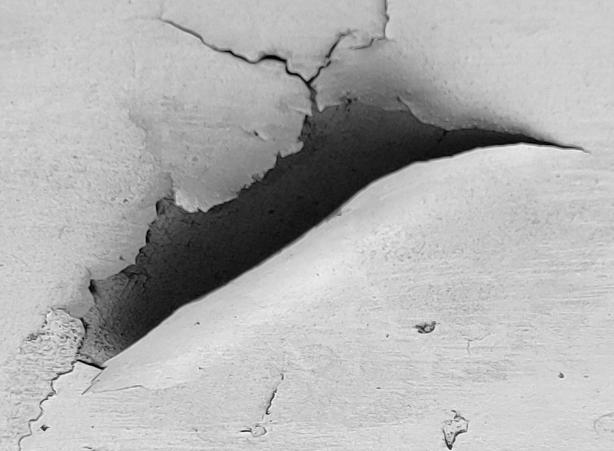paint-off: (0, 1, 614, 451)
